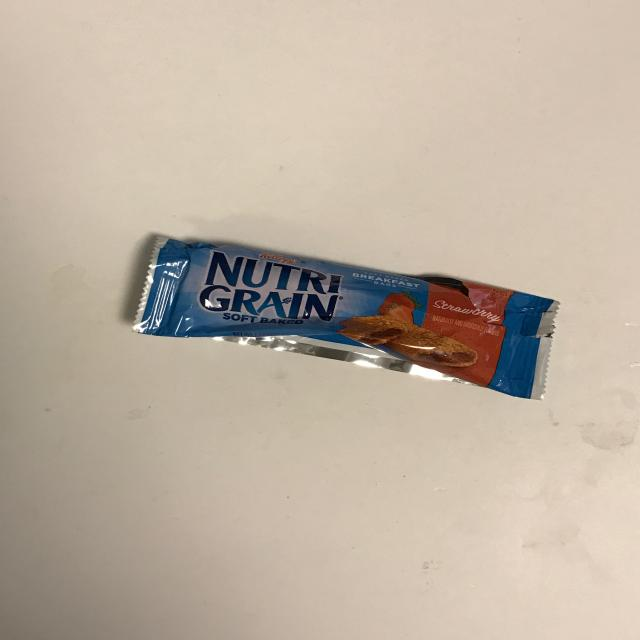Trash: (132, 236, 558, 400)
